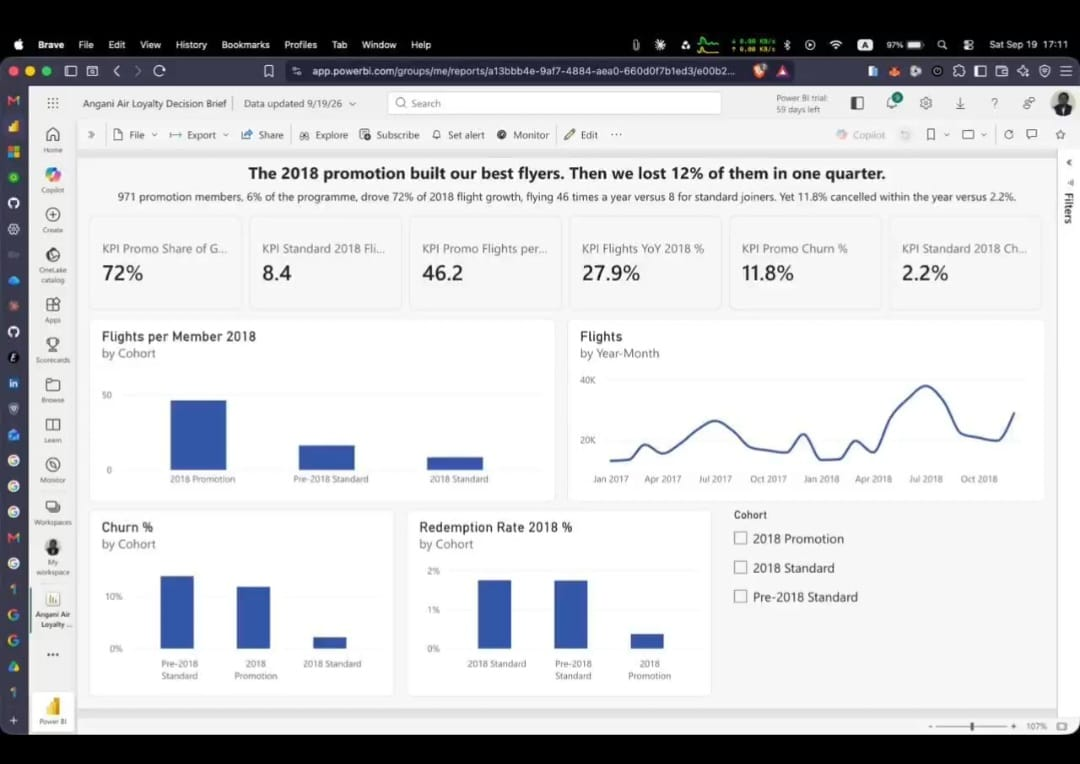

What the dashboard file says about the page in this screenshot:
{"tool":"powerbi","page":{"name":"1 Executive Answer","canvas":[1920,1080],"ordinal":0},"visuals":[{"type":"cardVisual","fields":{"Data":["Activity.KPI Promo Share of Growth %","Activity.KPI Standard 2018 Flights per Member","Activity.KPI Promo Flights per Member","Activity.KPI Flights YoY 2018 %","Activity.KPI Promo Churn %","Activity.KPI Standard 2018 Churn %"]},"box":[15.7,34.3,1250,131.4],"z":0},{"type":"clusteredColumnChart","fields":{"Category":["Customers.Cohort"],"Y":["Activity.Flights per Member 2018"]},"box":[15,180,610,260],"z":1},{"type":"lineChart","fields":{"Category":["Calendar.Year-Month.Variation.Date Hierarchy.Year","Calendar.Year-Month.Variation.Date Hierarchy.Quarter","Calendar.Year-Month.Variation.Date Hierarchy.Month","Calendar.Year-Month.Variation.Date Hierarchy.Day"],"Y":["Activity.Flights"]},"box":[640,180,625,260],"z":2},{"type":"clusteredColumnChart","fields":{"Category":["Customers.Cohort"],"Y":["Activity.Churn %"]},"box":[15,455,400,250],"z":3},{"type":"clusteredColumnChart","fields":{"Category":["Customers.Cohort"],"Y":["Activity.Redemption Rate 2018 %"]},"box":[430,455,400,250],"z":4},{"type":"slicer","fields":{"Values":["Customers.Cohort"]},"box":[850,455,415,250],"z":5}]}

Visuals, with their boxes on the page's 1920x1080 design canvas (x1, y1, x2, y2). These are canvas units, not pixel positions in the 1080x764 screenshot, which may show the page scaled, cropped or inside an application window:
cardVisual - Activity.KPI Promo Share of Growth % x Activity.KPI Standard 2018 Flights per Member: (16, 34, 1266, 166)
clusteredColumnChart - Customers.Cohort x Activity.Flights per Member 2018: (15, 180, 625, 440)
lineChart - Calendar.Year-Month.Variation.Date Hierarchy.Year x Calendar.Year-Month.Variation.Date Hierarchy.Quarter: (640, 180, 1265, 440)
clusteredColumnChart - Customers.Cohort x Activity.Churn %: (15, 455, 415, 705)
clusteredColumnChart - Customers.Cohort x Activity.Redemption Rate 2018 %: (430, 455, 830, 705)
slicer - Customers.Cohort: (850, 455, 1265, 705)
